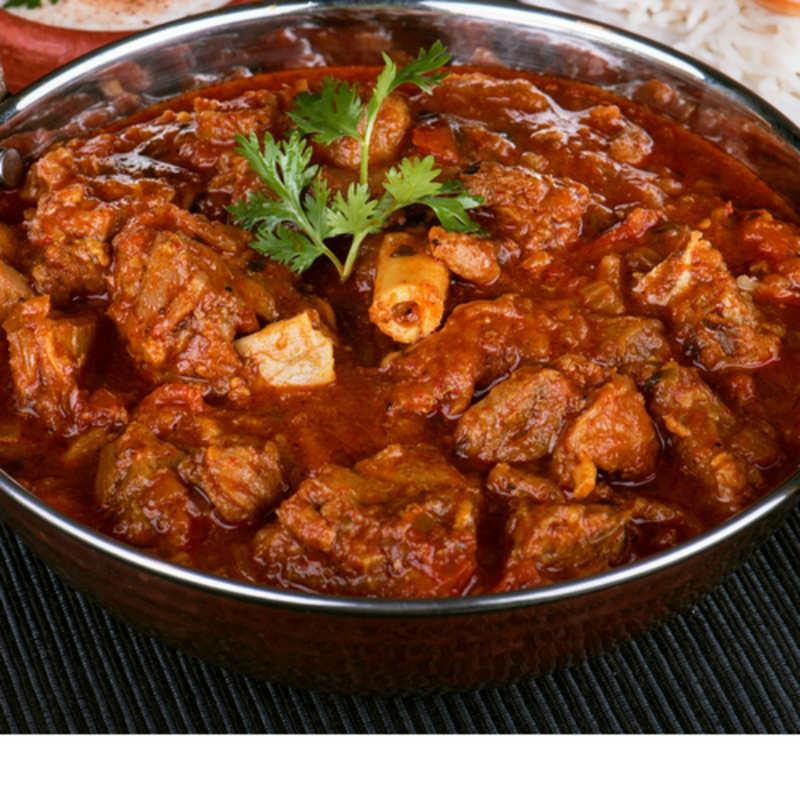MuttonCurry: (0, 55, 800, 598)
